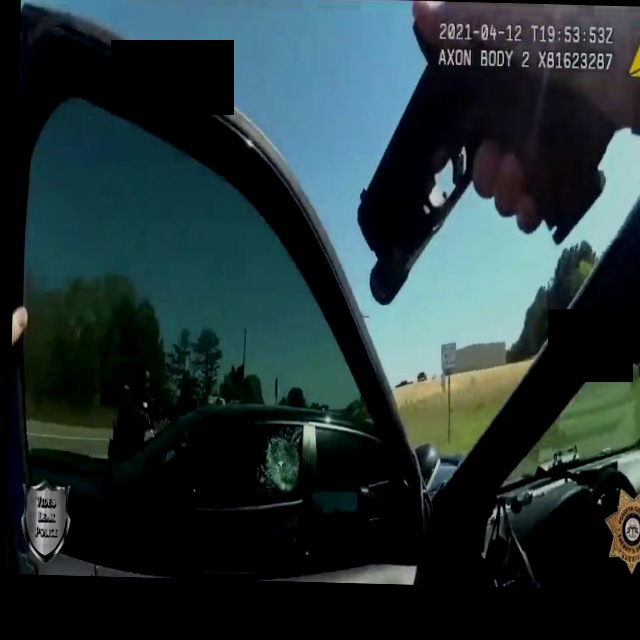gun: (141, 412, 158, 433)
